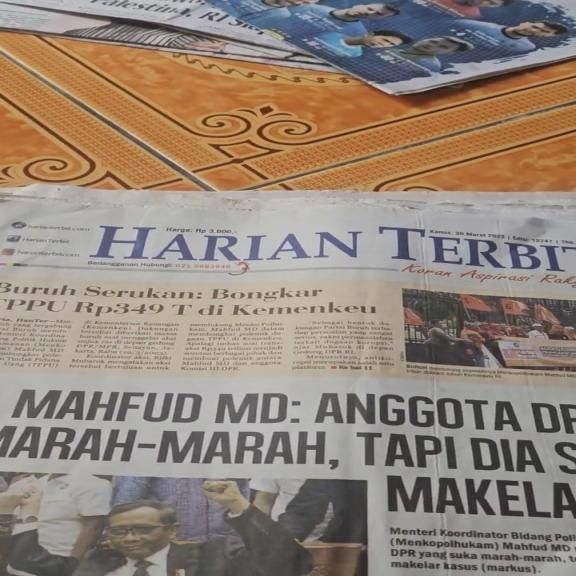Kertas: (6, 191, 565, 567)
